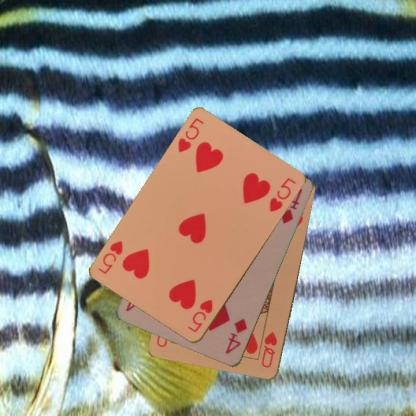4d: (223, 316, 249, 356)
5h: (175, 115, 206, 154), (186, 296, 214, 334)
Qh: (259, 329, 279, 370)
